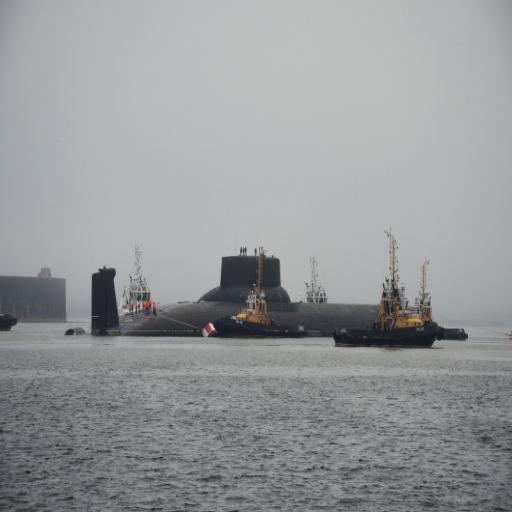submarine: (95, 257, 383, 336)
